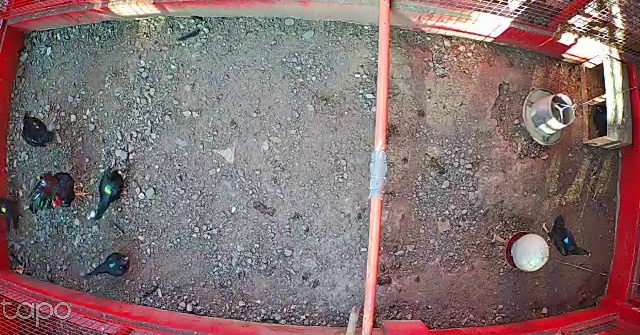Chicken: (90, 158, 134, 222), (538, 214, 595, 258), (20, 105, 62, 154), (86, 249, 135, 282), (0, 191, 23, 237)
Rooster: (28, 169, 94, 211)
Saddle_Color_Blue: (563, 237, 569, 243)
Saddle_Color_Yellow: (0, 205, 6, 213)
Saddle_Color_YellowGreen: (102, 181, 113, 195)
